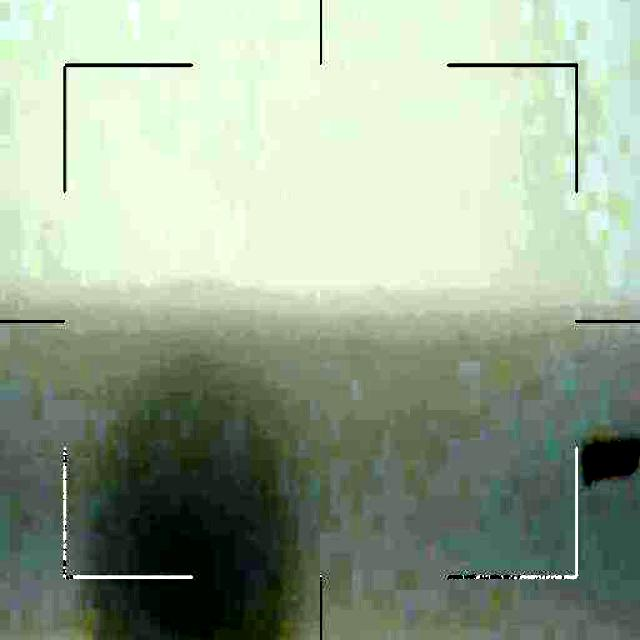bird: (584, 436, 640, 490)
